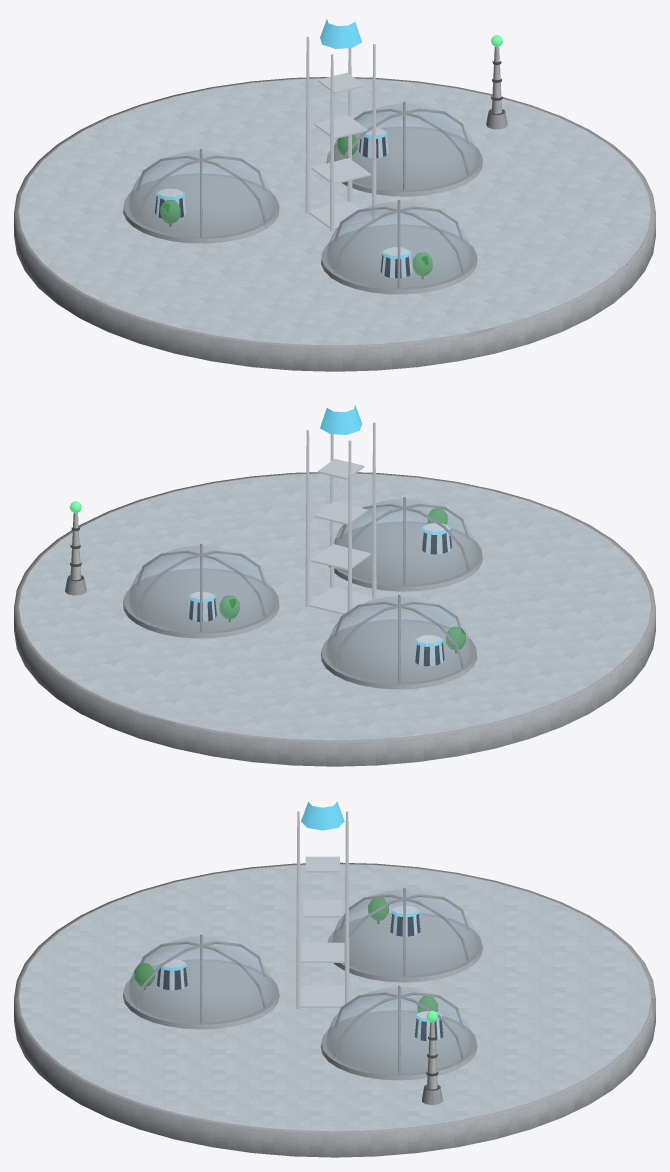
File: europa_vent_village.glb
3 renders of one model, top to bottom at view 1: azimuth 30°, elevation 25°; view 2: azimuth 150°, elevation 25°; view 3: azimuth 270°, elevation 25°, orthographic.
Visible parts, largest first — view 1: europa_vent_village_LOD0; view 2: europa_vent_village_LOD0; view 3: europa_vent_village_LOD0.
Part boxes in pixels (x1,y1,x2,y2): europa_vent_village_LOD0: [14, 19, 655, 371]; europa_vent_village_LOD0: [14, 405, 655, 766]; europa_vent_village_LOD0: [14, 801, 655, 1157].
Size of what is drawn, in the model's own units: 52.8 by 20 by 52.8.
4 materials, 3 textured.
